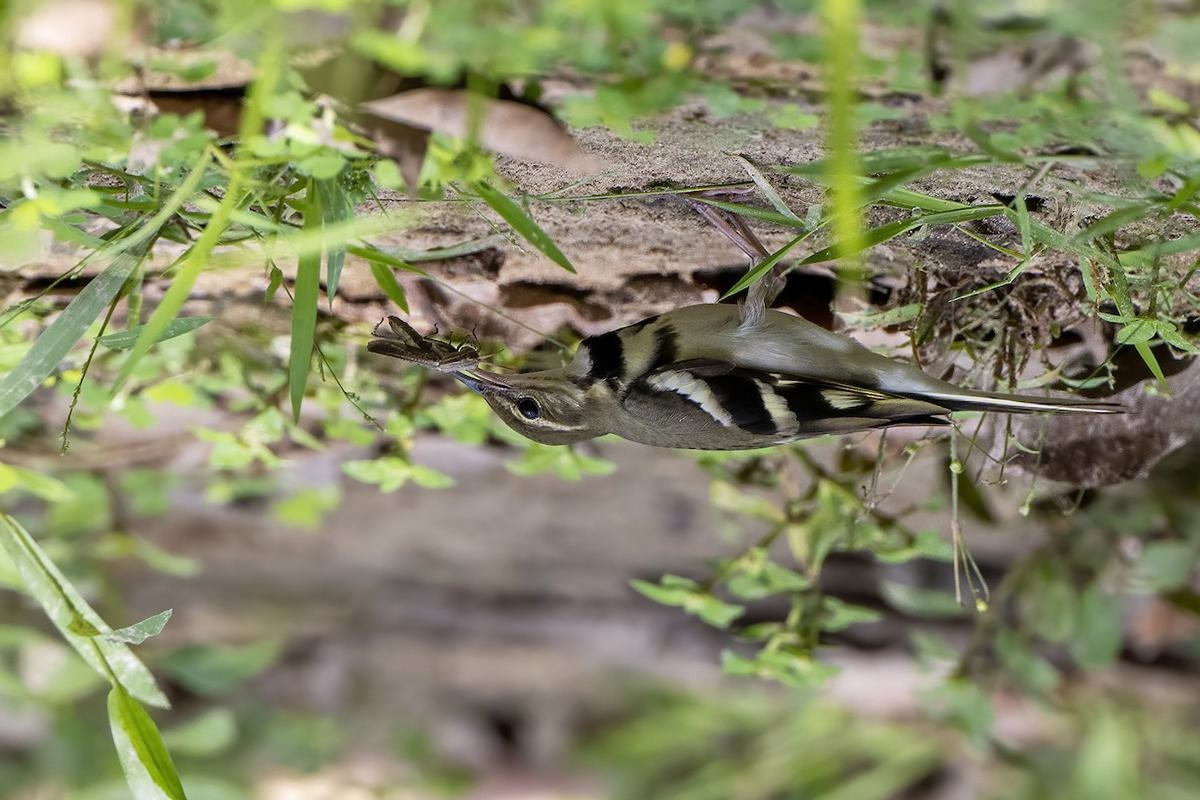wagtail: (454, 254, 1034, 498)
